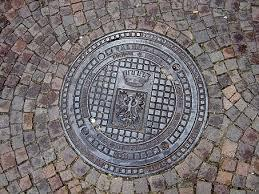closed manhole-not overflowing-: (60, 32, 211, 177)
